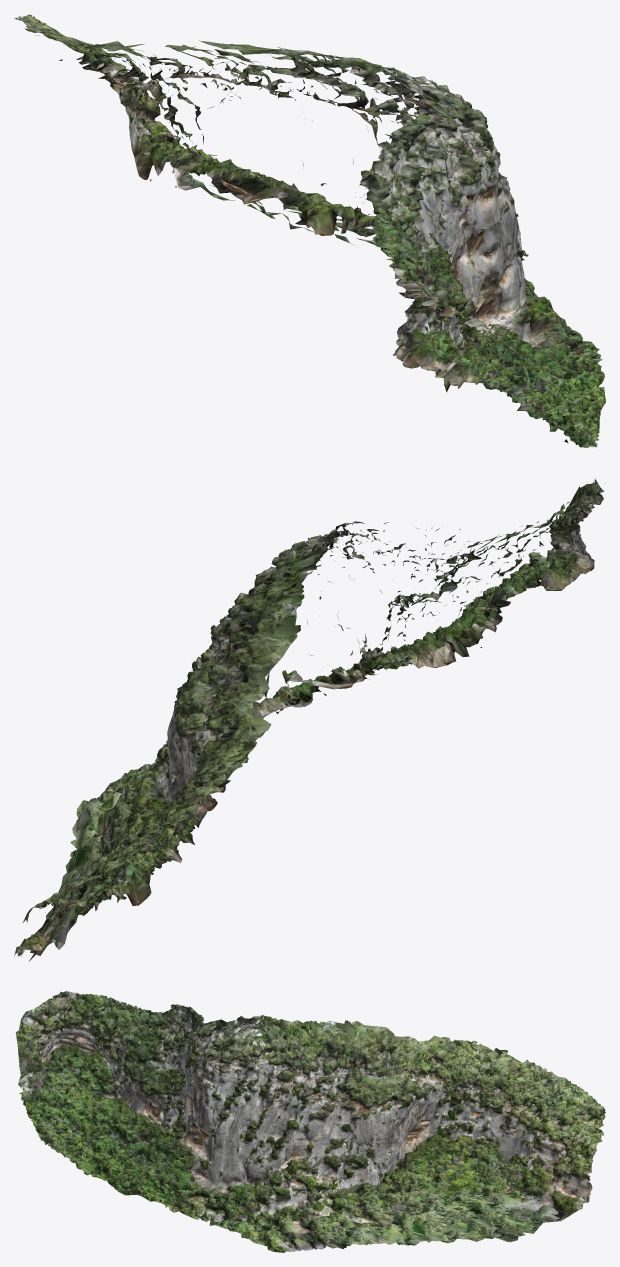
File: monte-sordo-mapbox-smoke.glb
The picture shows the model from 3 angles, top to bottom: view 1: azimuth 30°, elevation 25°; view 2: azimuth 150°, elevation 25°; view 3: azimuth 270°, elevation 25°; orthographic projection. The views are drawn at different scales.
Visible parts, largest first — view 1: Monte Sordo(Clone); view 2: Monte Sordo(Clone); view 3: Monte Sordo(Clone).
Part boxes in pixels (x1,y1,x2,y2): Monte Sordo(Clone): (14,14,605,447); Monte Sordo(Clone): (14,478,605,961); Monte Sordo(Clone): (15,991,605,1252).
Size of the model in its own units: 1.23 by 1.09 by 3.05.
1 material, 1 textured.
